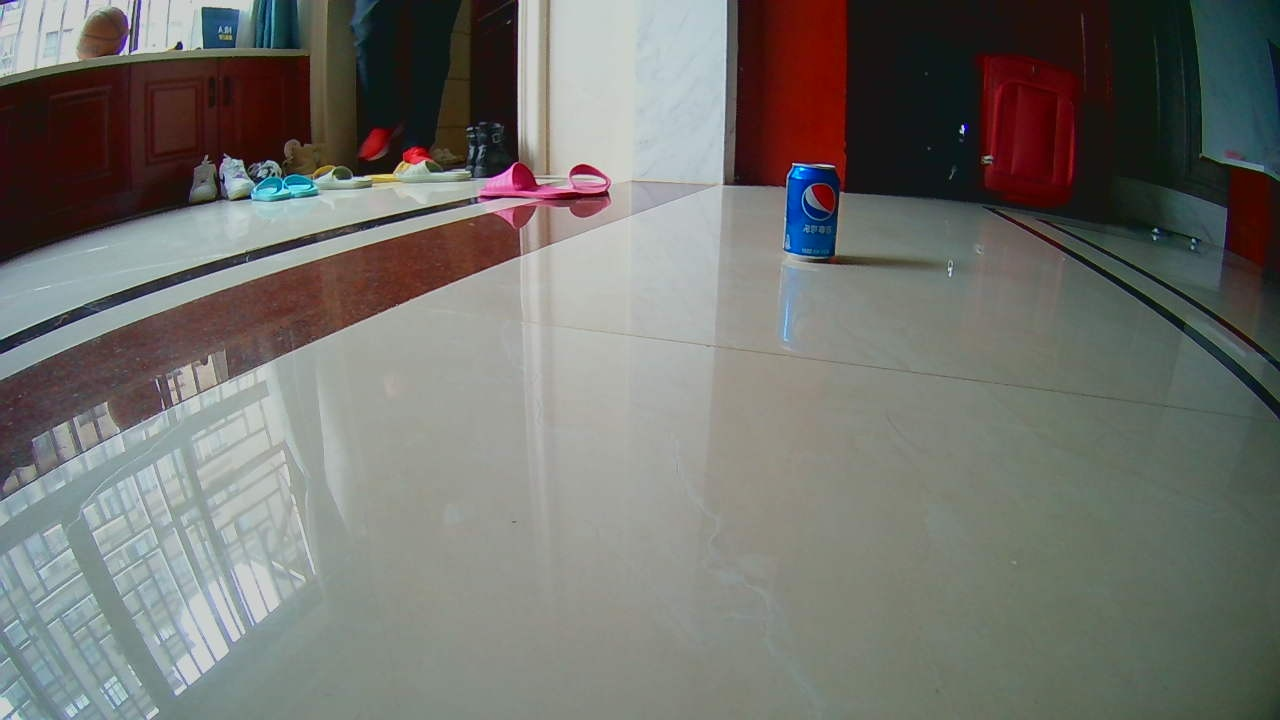pessi: (789, 161, 833, 261)
